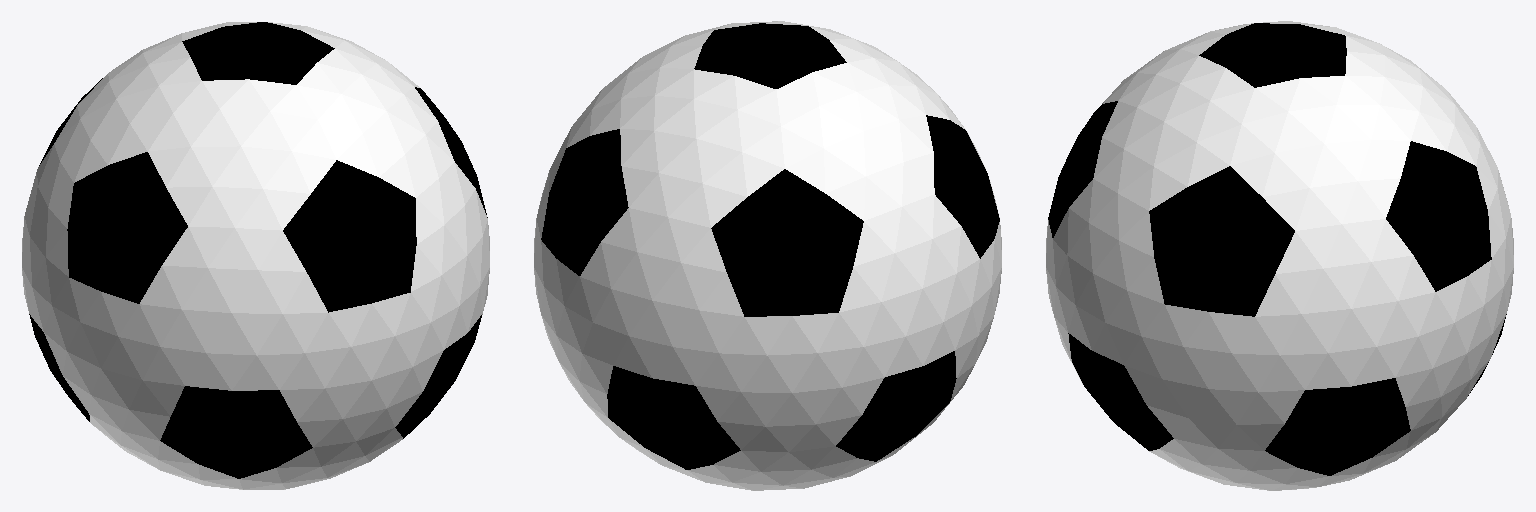
File: SoccerBall.obj
The picture shows the model from 3 angles: view 1: azimuth 30°, elevation 25°; view 2: azimuth 150°, elevation 25°; view 3: azimuth 270°, elevation 25°; orthographic projection.
Visible parts, largest first — view 1: F6:GeoDome3; view 2: F6:GeoDome3; view 3: F6:GeoDome3.
Part boxes in pixels (x1,y1,x2,y2): F6:GeoDome3: (22,22,489,489); F6:GeoDome3: (534,21,1001,490); F6:GeoDome3: (1046,21,1513,490).
Size of the model in its own units: 0.226 by 0.226 by 0.2247.